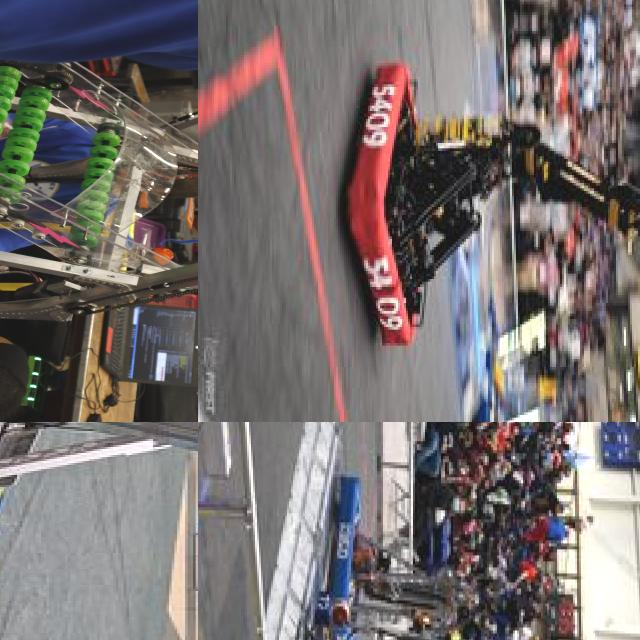FRC-Robots: (332, 45, 640, 399), (0, 46, 198, 345), (0, 422, 198, 640), (322, 517, 479, 639)
